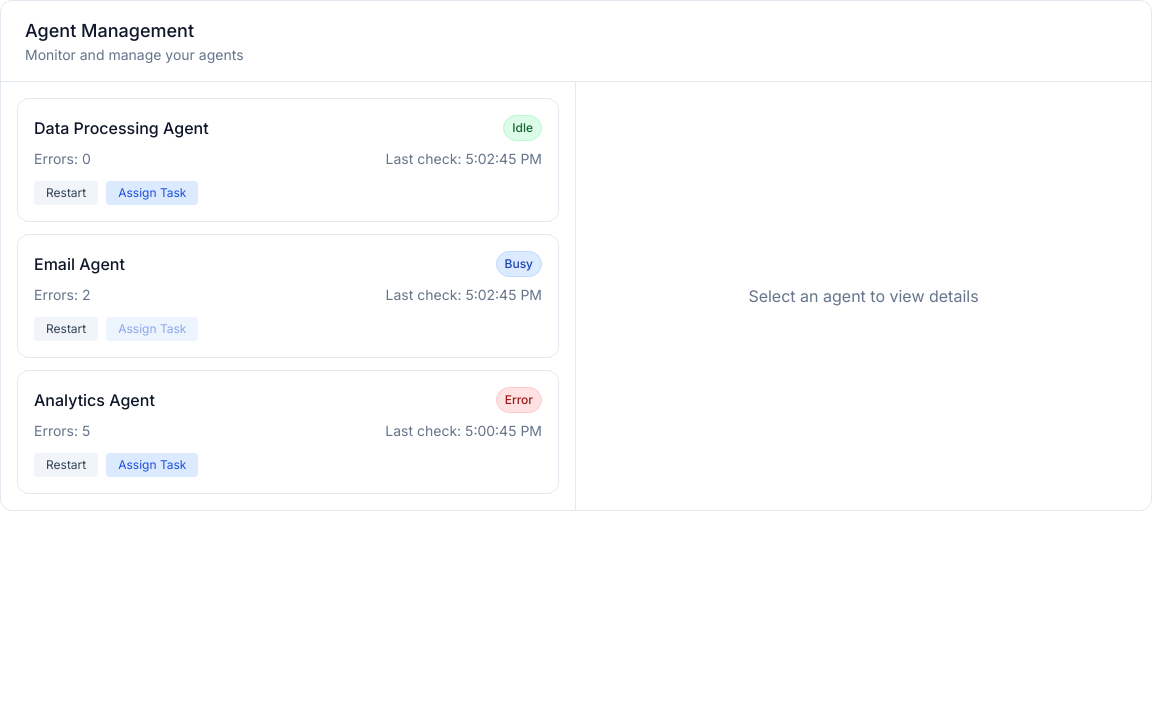
AgentPanel UI › should show agent details when selected
Step 1. Click the heading "Data Processing Agent" → [121, 128], box [34,116,209,140]
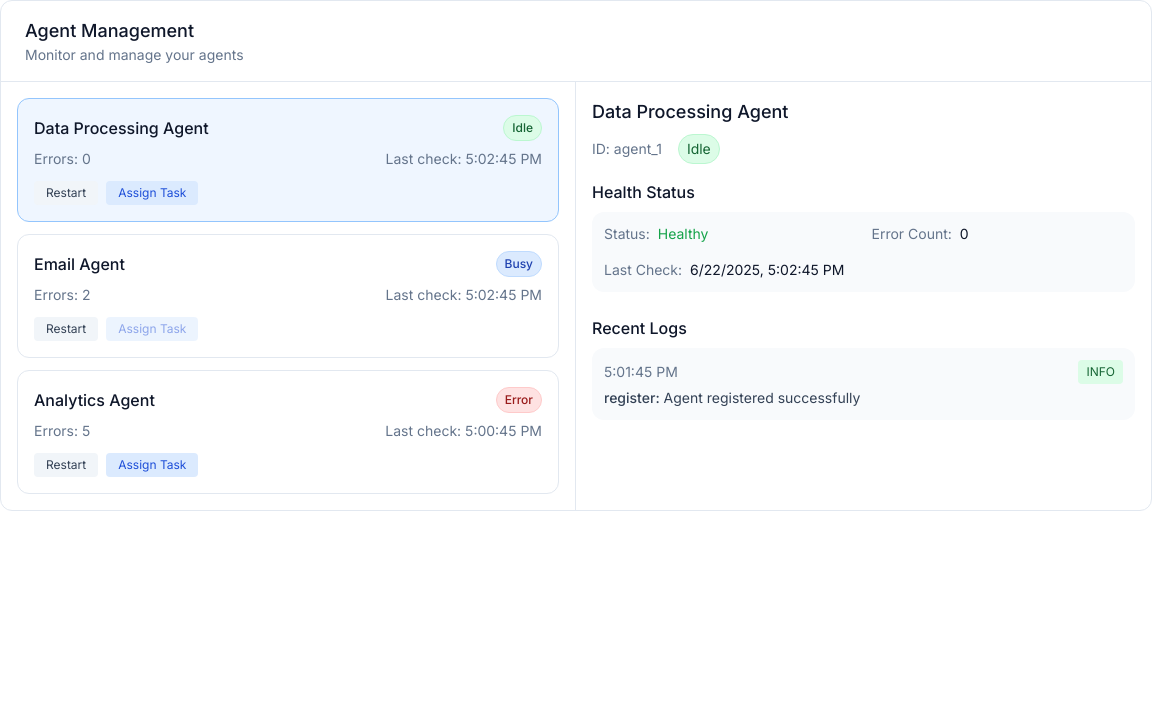
expect the text "ID: agent_1" is shown: met, box [592,139,662,159]
expect the heading "Health Status" is shown: met, box [592,182,695,202]
expect the heading "Recent Logs" is shown: met, box [592,318,687,338]
